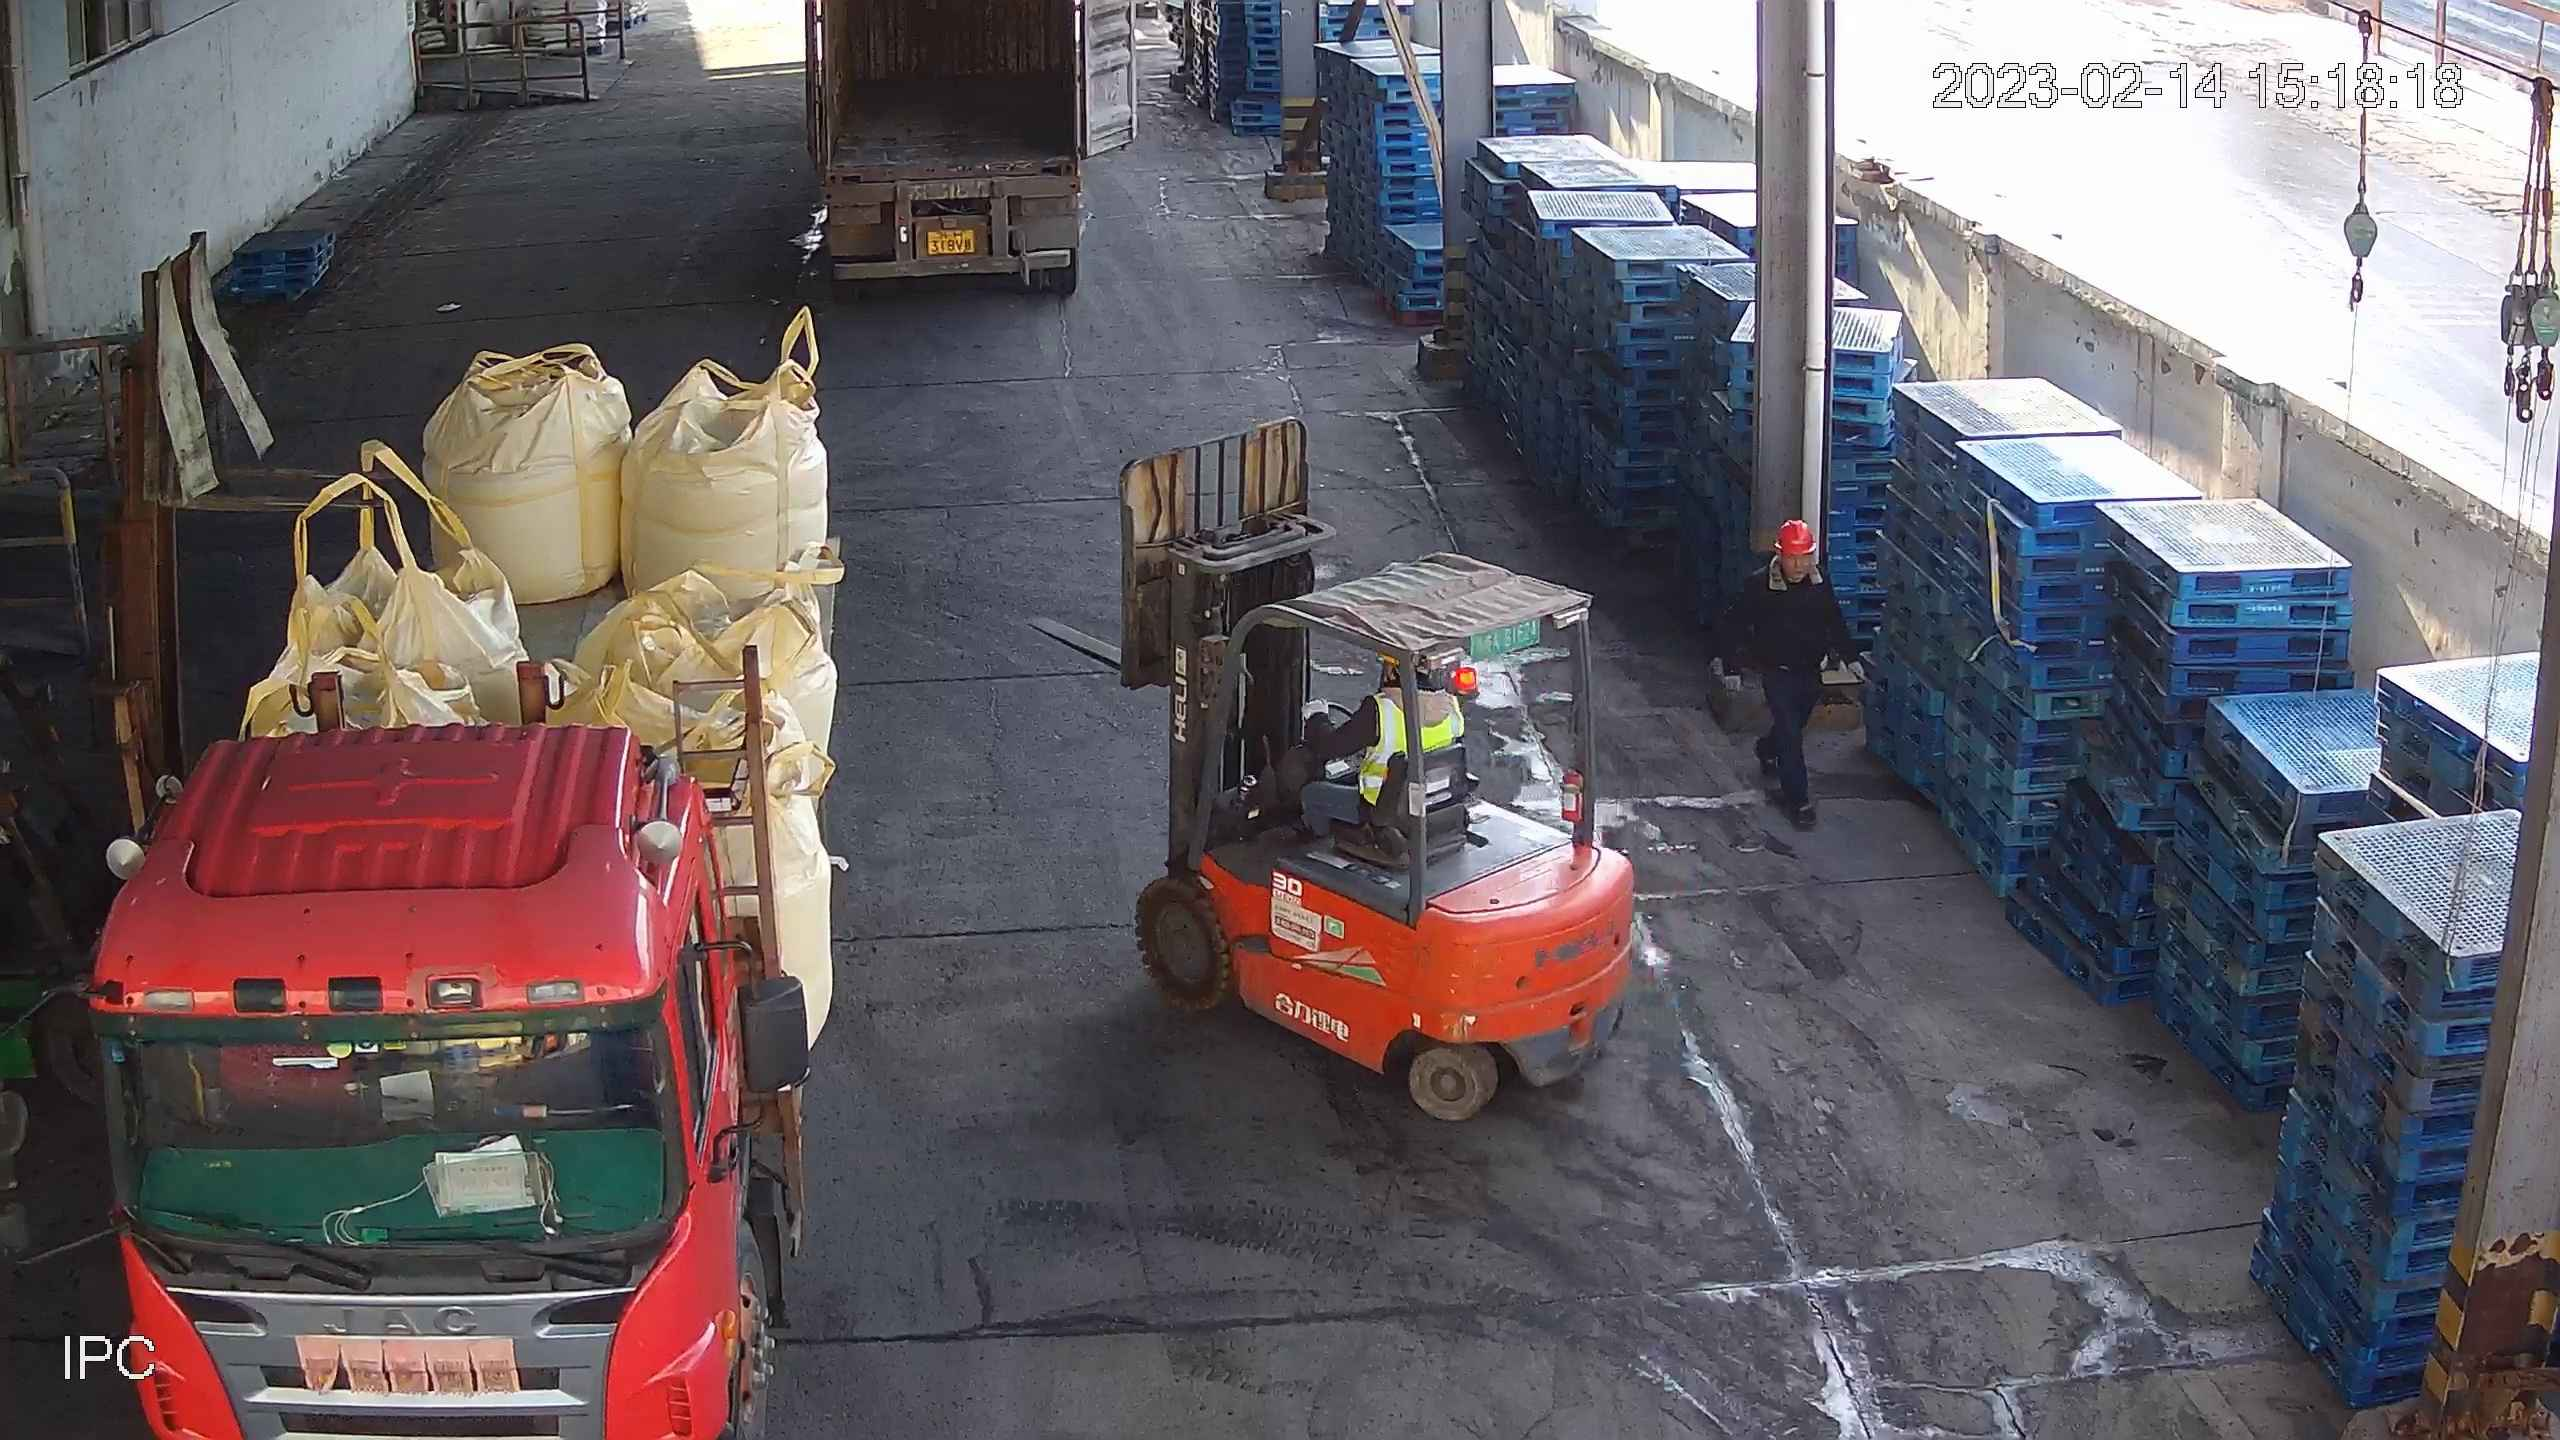head: (1722, 523, 1849, 640), (1340, 643, 1466, 745)
helmet: (1768, 512, 1831, 558)
people: (1716, 521, 1873, 813), (1286, 647, 1461, 841)
truck: (99, 351, 836, 1440), (790, 4, 1157, 314)
